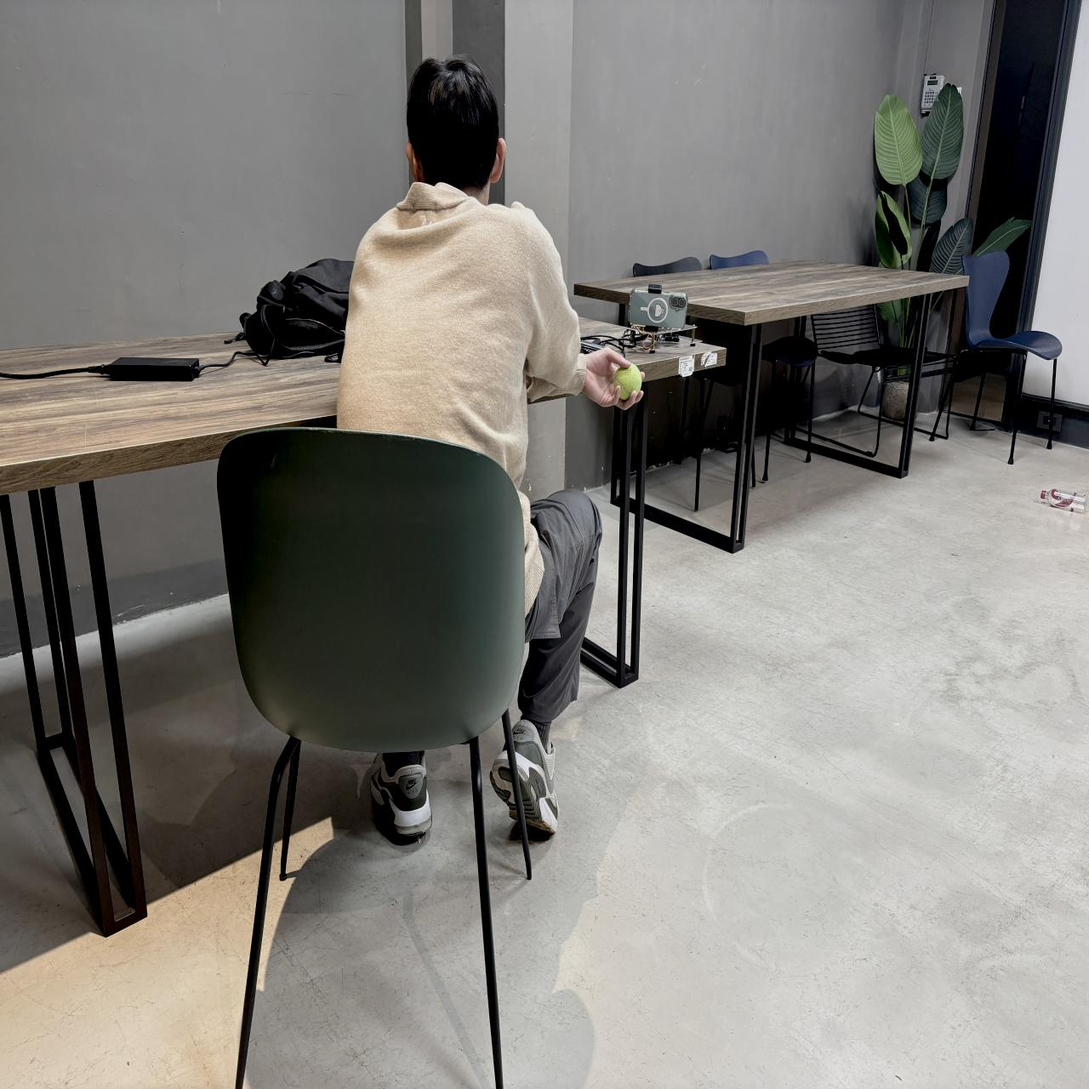tennisball: (613, 365, 641, 400)
